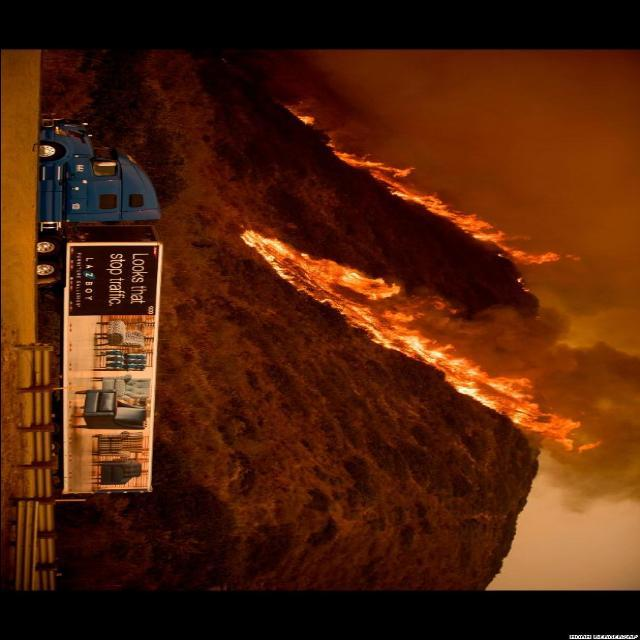Fire: (240, 152, 596, 457)
